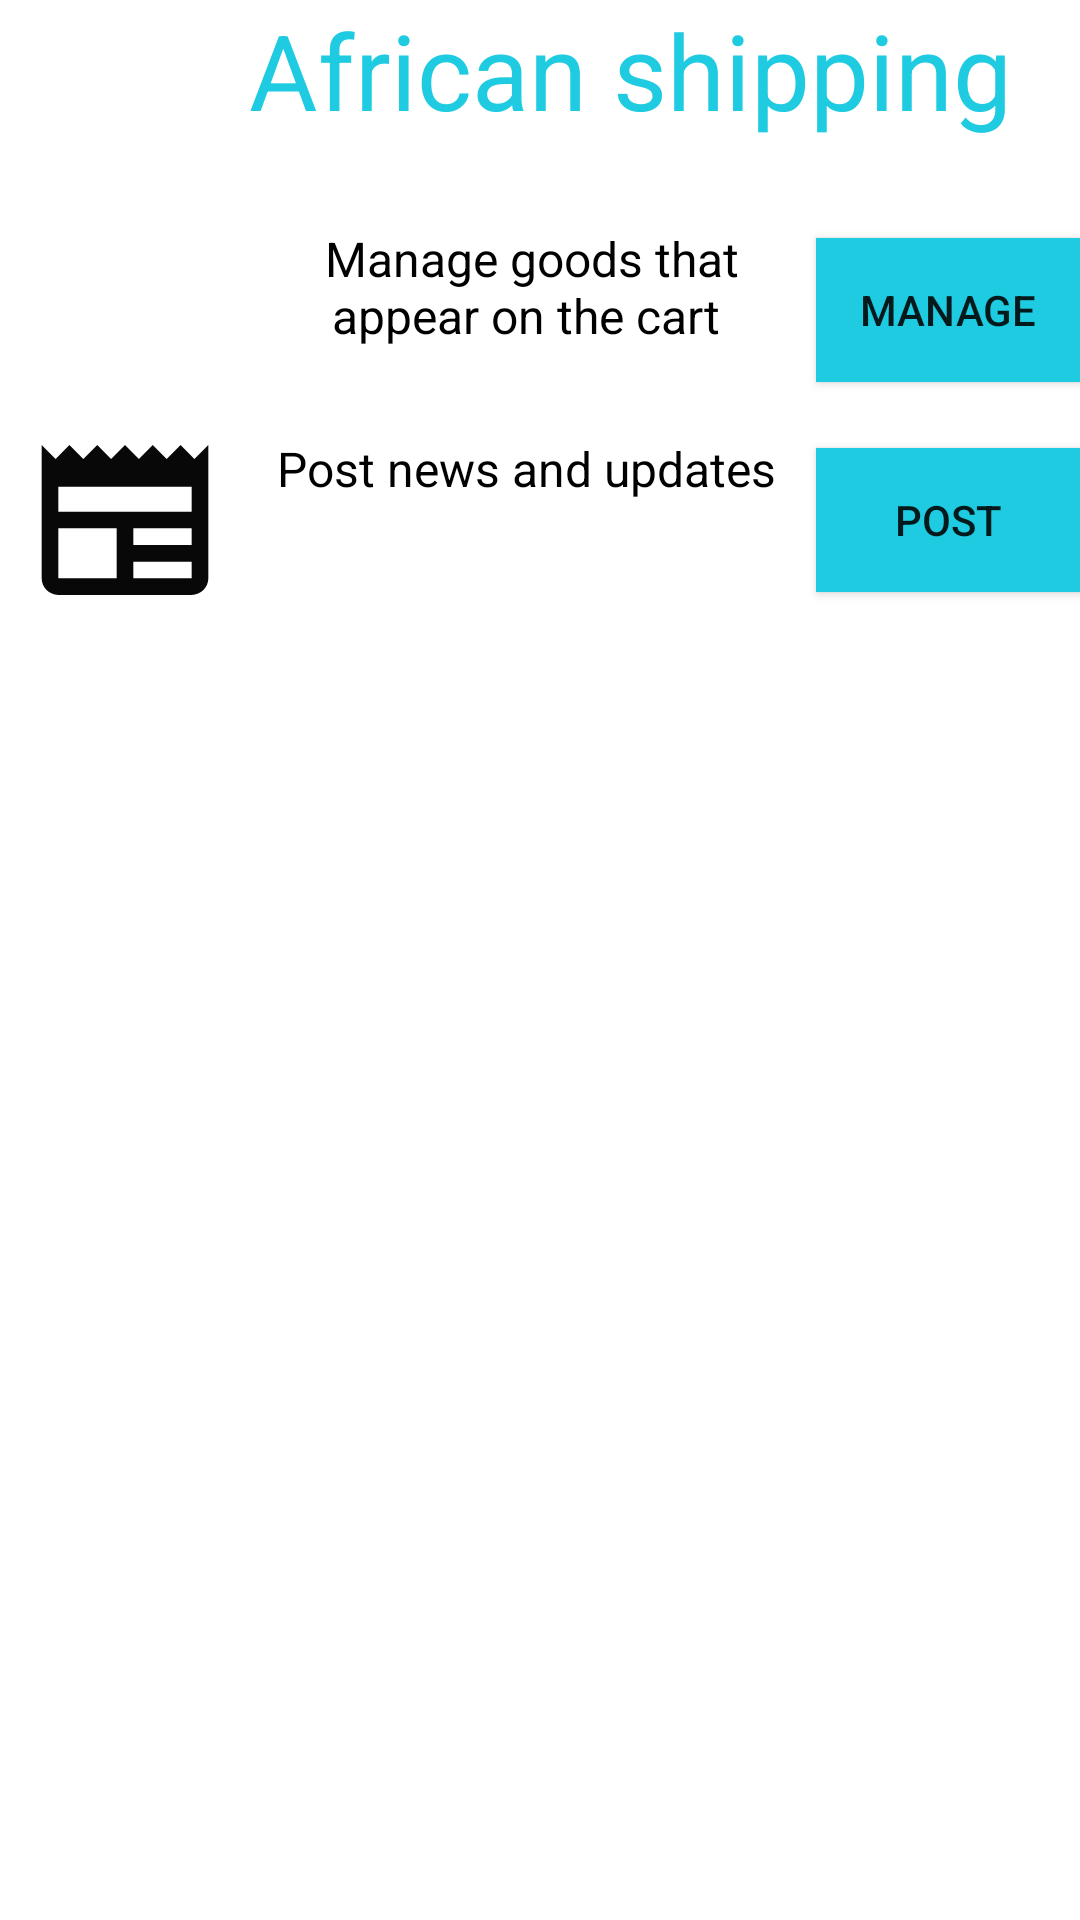

Named icons in this screenshot (1080w x 1920h) and their bounding boxes, {"x1": x1, "y1": y1, "x2": x2, "y2": y2}:
newspaper: {"x1": 41, "y1": 445, "x2": 209, "y2": 595}
